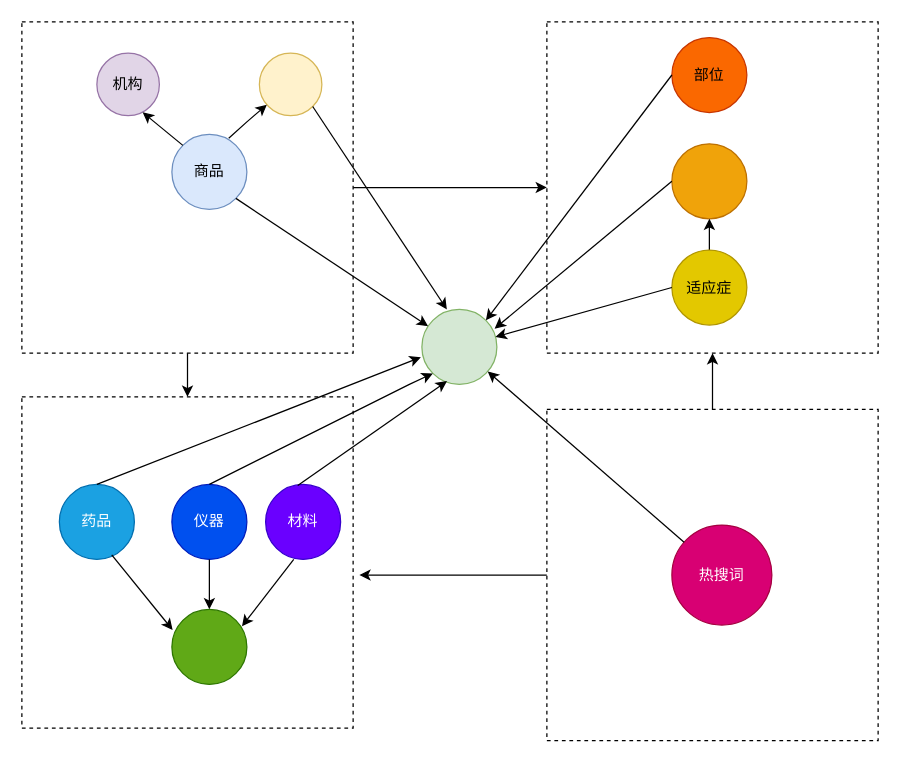
This 900x763 diagram has some shape labels left out. The centre of each missing label's shape, as x and y in pixels:
"功效" belongs at [709,180].
"医生" belongs at [290,84].
"品牌" belongs at [209,646].
"项目" belongs at [459,346].
